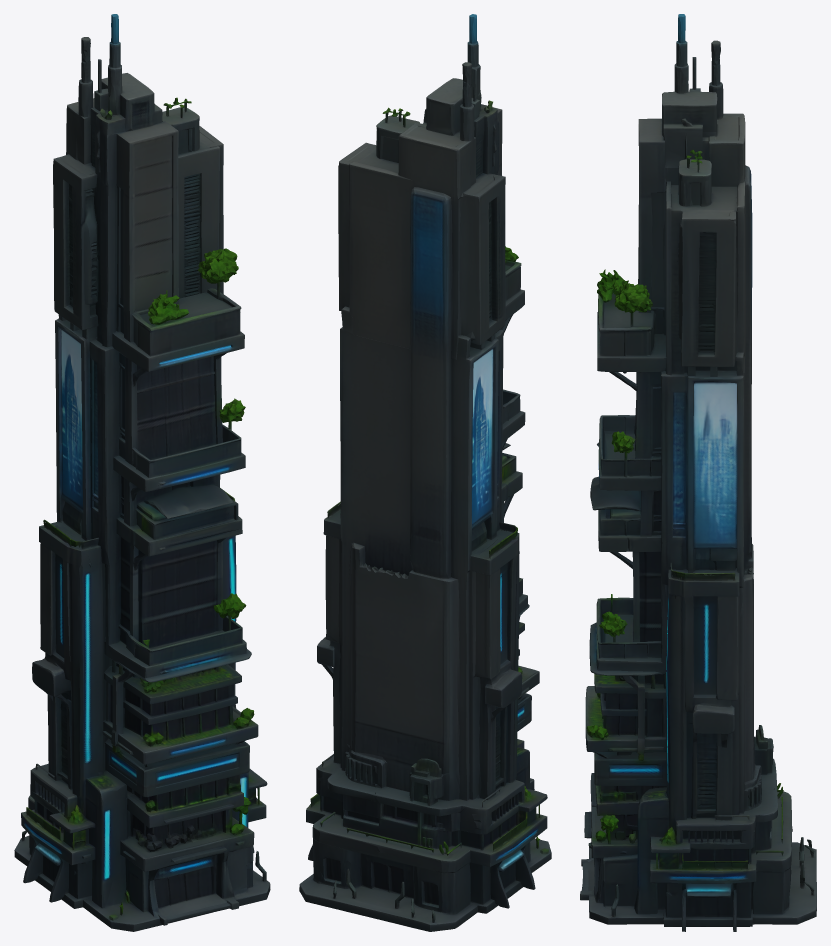
The model's file is source.glb.
The picture shows the model from 3 angles, left to right: view 1: azimuth 30°, elevation 25°; view 2: azimuth 150°, elevation 25°; view 3: azimuth 270°, elevation 25°; orthographic projection. The views are drawn at different scales.
Parts seen in each view (by area): view 1: model; view 2: model; view 3: model.
Boxes of the visible parts, left/top/right/bottom form: model: left=14, top=14, right=270, bottom=931; model: left=299, top=14, right=551, bottom=931; model: left=580, top=14, right=816, bottom=931.
Bounding box in the file's own units: 0.4621 × 1.9 × 0.4768.
Materials: 1 (1 with a texture image).
